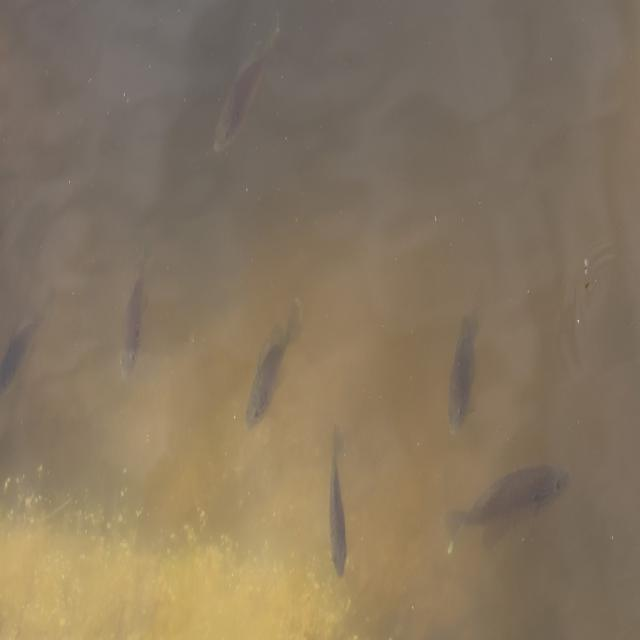Gunes Levregi: (442, 460, 572, 555), (214, 18, 282, 153), (244, 294, 304, 432), (1, 282, 59, 397), (326, 417, 354, 580), (447, 308, 481, 432), (118, 242, 146, 381)
